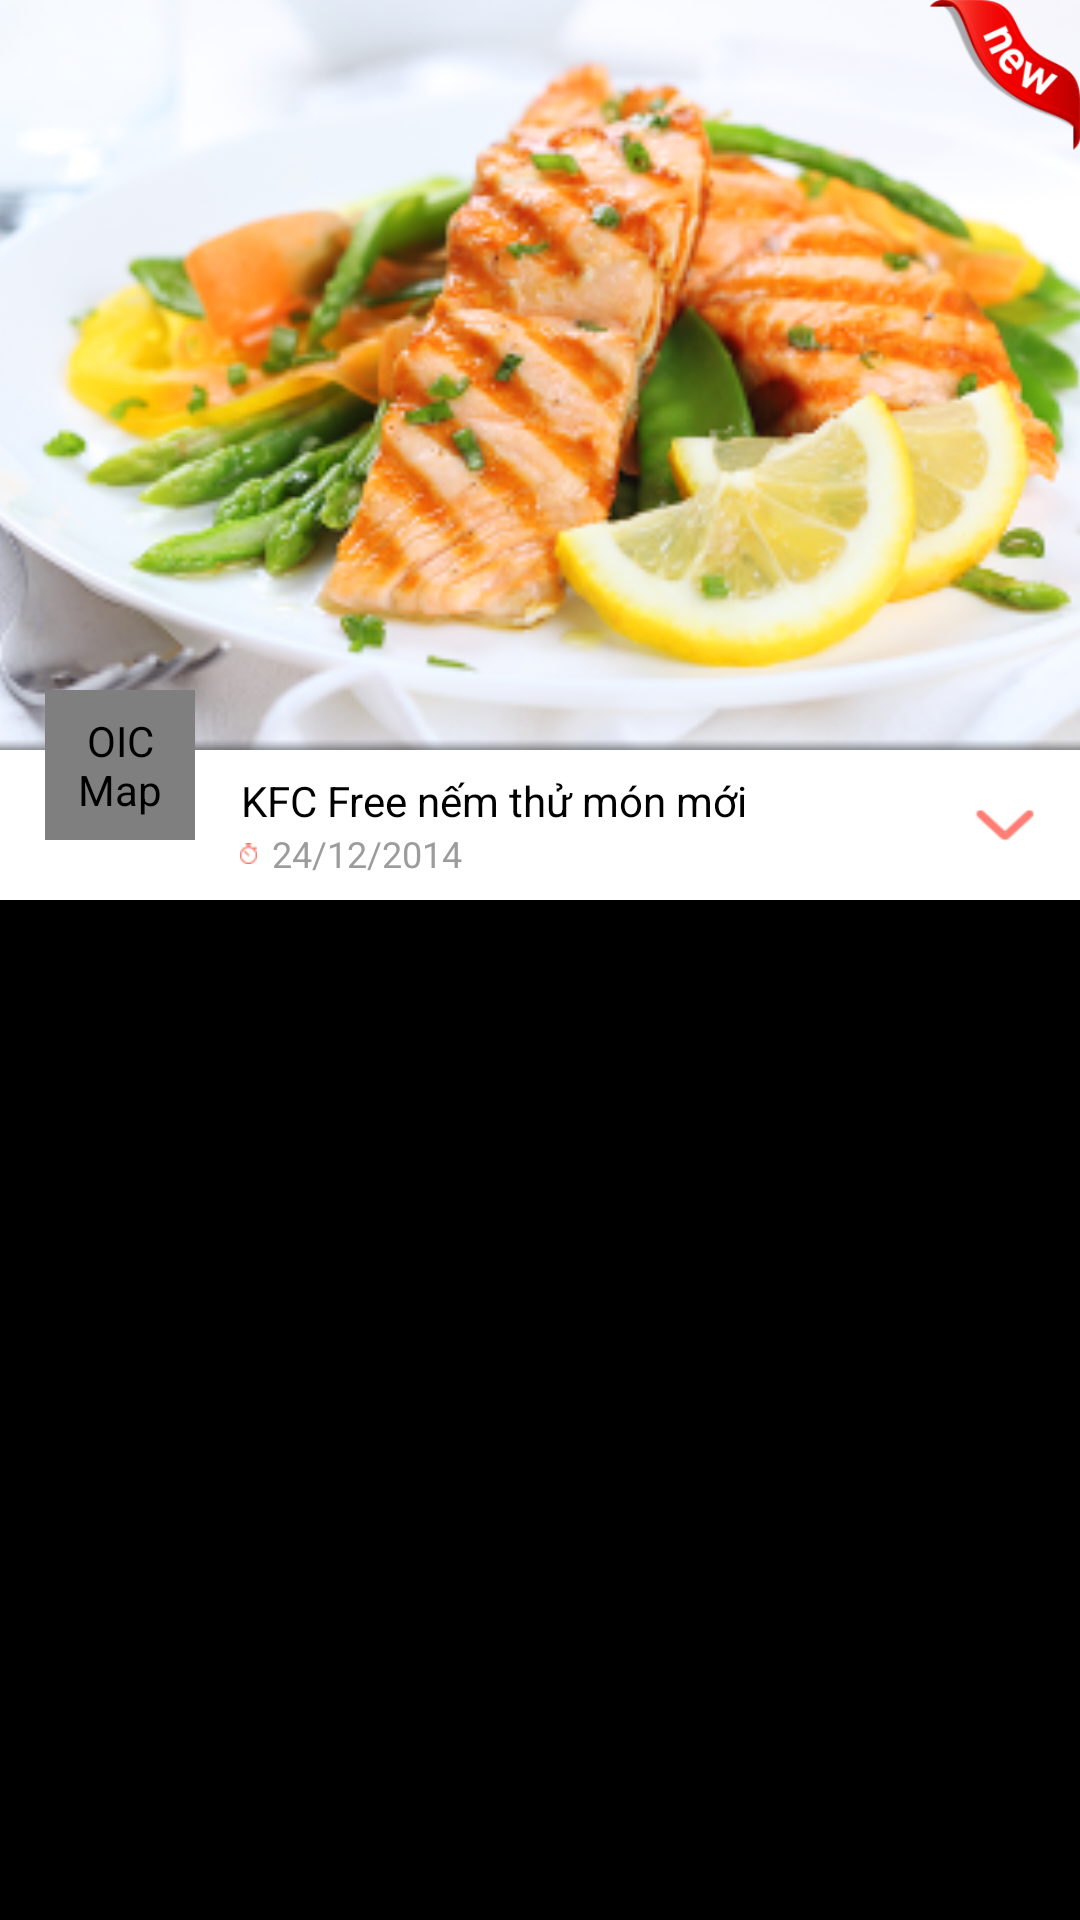

Point at icon controls on the screen. Image size 1080*1920, points as point (x, y).
promotion: point (1005, 75)
store arrow down: point (1005, 825)
